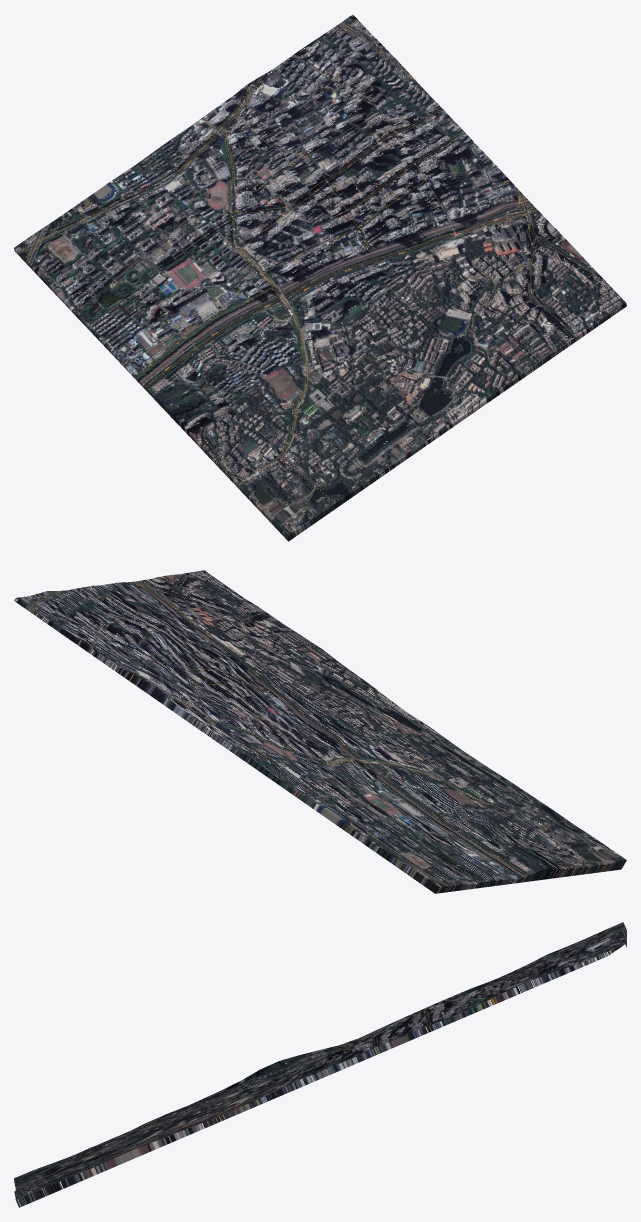
3 renders of one model, top to bottom at view 1: azimuth 30°, elevation 25°; view 2: azimuth 150°, elevation 25°; view 3: azimuth 270°, elevation 25°, orthographic. The views are drawn at different scales.
Parts seen in each view (by area): view 1: 2_1_6; view 2: 2_1_6; view 3: 2_1_6.
Boxes of the visible parts, left/top/right/bottom form: 2_1_6: left=14, top=14, right=626, bottom=541; 2_1_6: left=14, top=570, right=626, bottom=893; 2_1_6: left=14, top=922, right=626, bottom=1207.
Size of the model in its own units: 2457 by 1783 by 2256.
1 material, 1 textured.
